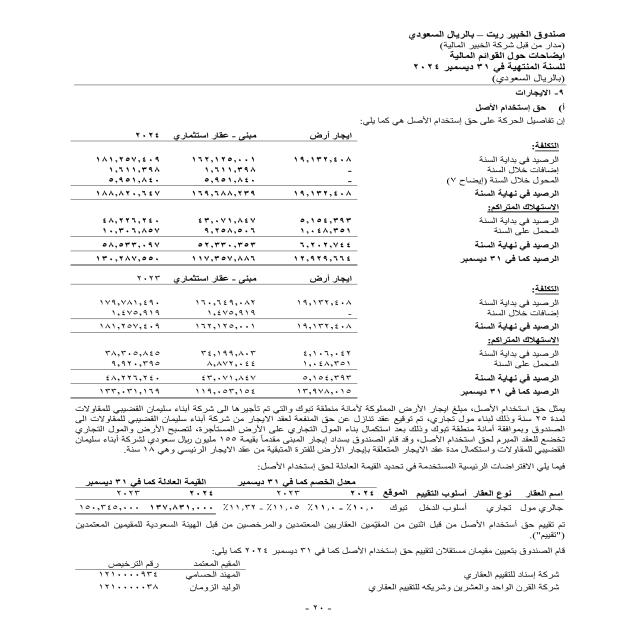notes: (440, 49, 565, 64)
table: (48, 128, 364, 402), (60, 475, 581, 520), (57, 555, 251, 604)
